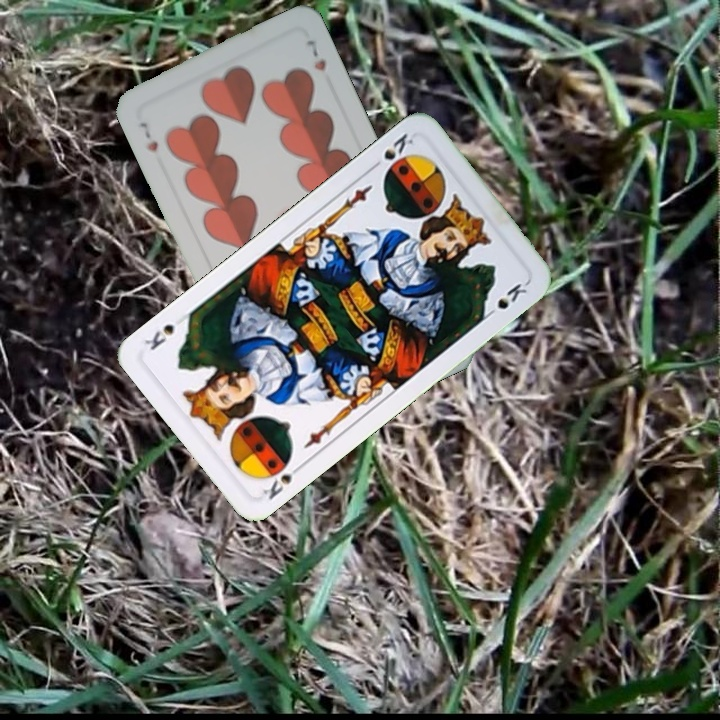H7: (135, 118, 161, 155)
SK: (258, 453, 307, 503), (366, 129, 416, 176)
